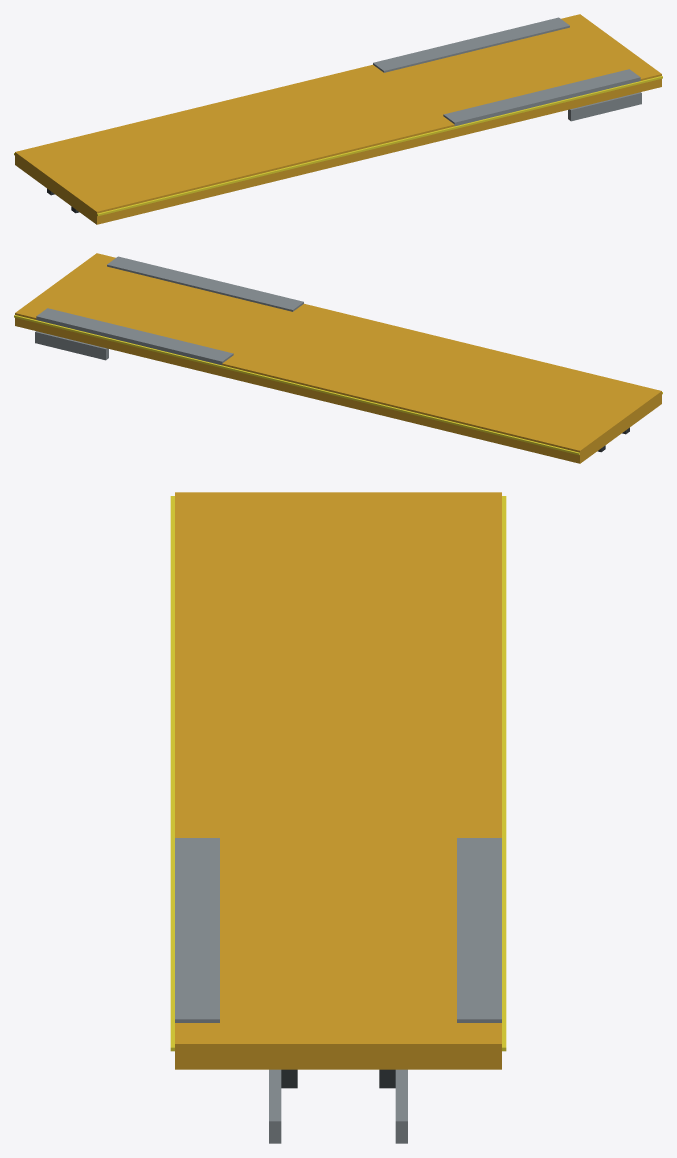
File: mobile_crane_deck.glb
3 views of the same model, one above another, from view 1: azimuth 30°, elevation 25°; view 2: azimuth 150°, elevation 25°; view 3: azimuth 270°, elevation 25° (orthographic). The views are drawn at different scales.
Visible parts, largest first — view 1: body:compound; view 2: body:compound; view 3: body:compound.
Boxes of the visible parts, left/top/right/bottom form: body:compound: left=14, top=14, right=662, bottom=224; body:compound: left=14, top=253, right=662, bottom=463; body:compound: left=170, top=492, right=506, bottom=1143.
Size of the model in its own units: 10.03 by 0.8438 by 2.56.
